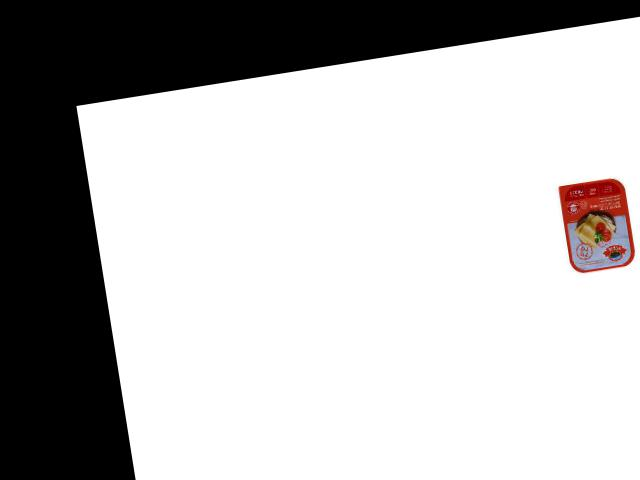cheese: (555, 170, 640, 277)
